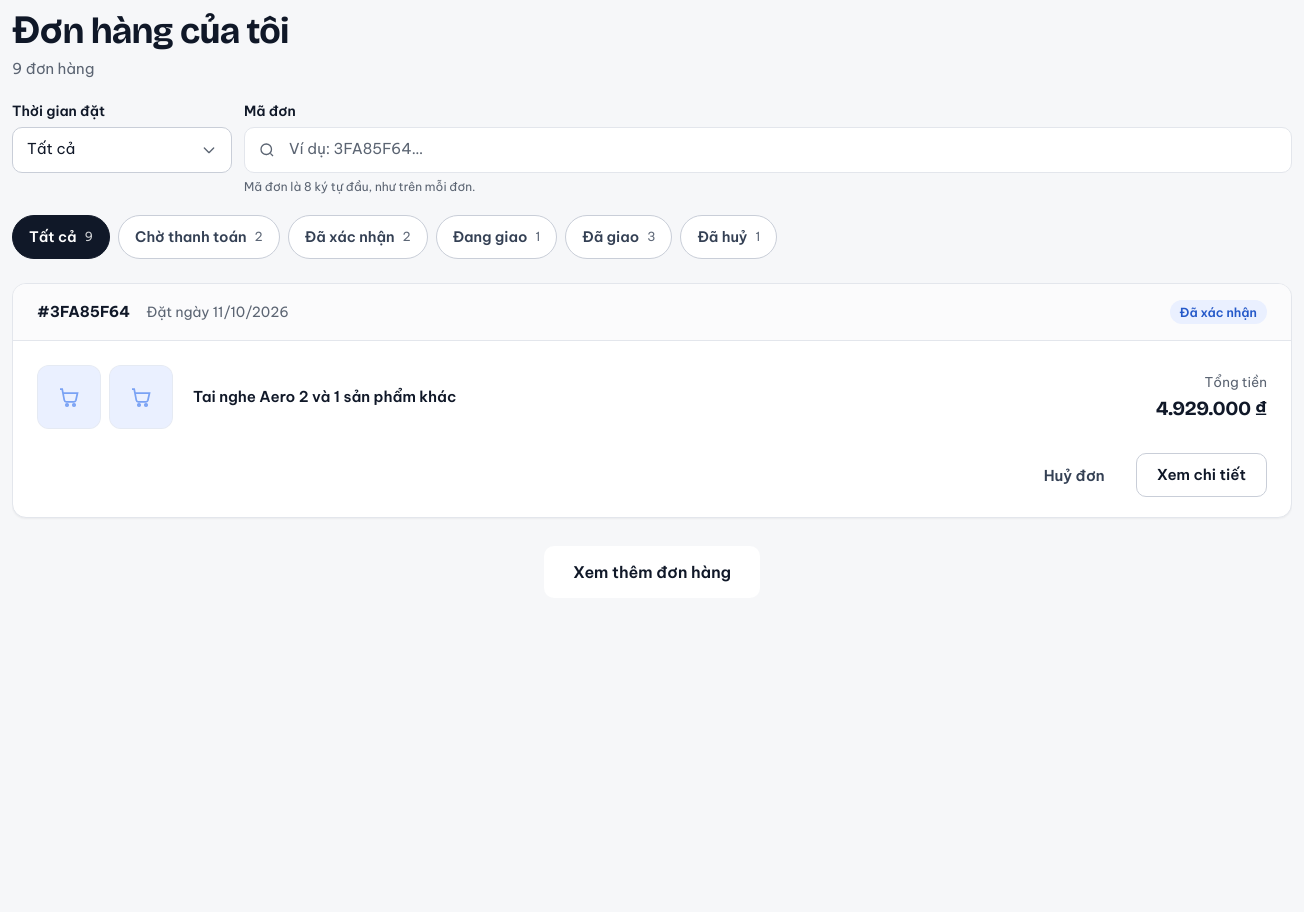
OrdersPage › fetches next page with cursor when clicking Xem thêm đơn hàng
Expected: the text "#3FA85F64" is shown, left=37, top=301, right=130, bottom=323
Click the button "Xem thêm đơn hàng" at (652, 572), box left=544, top=546, right=760, bottom=598
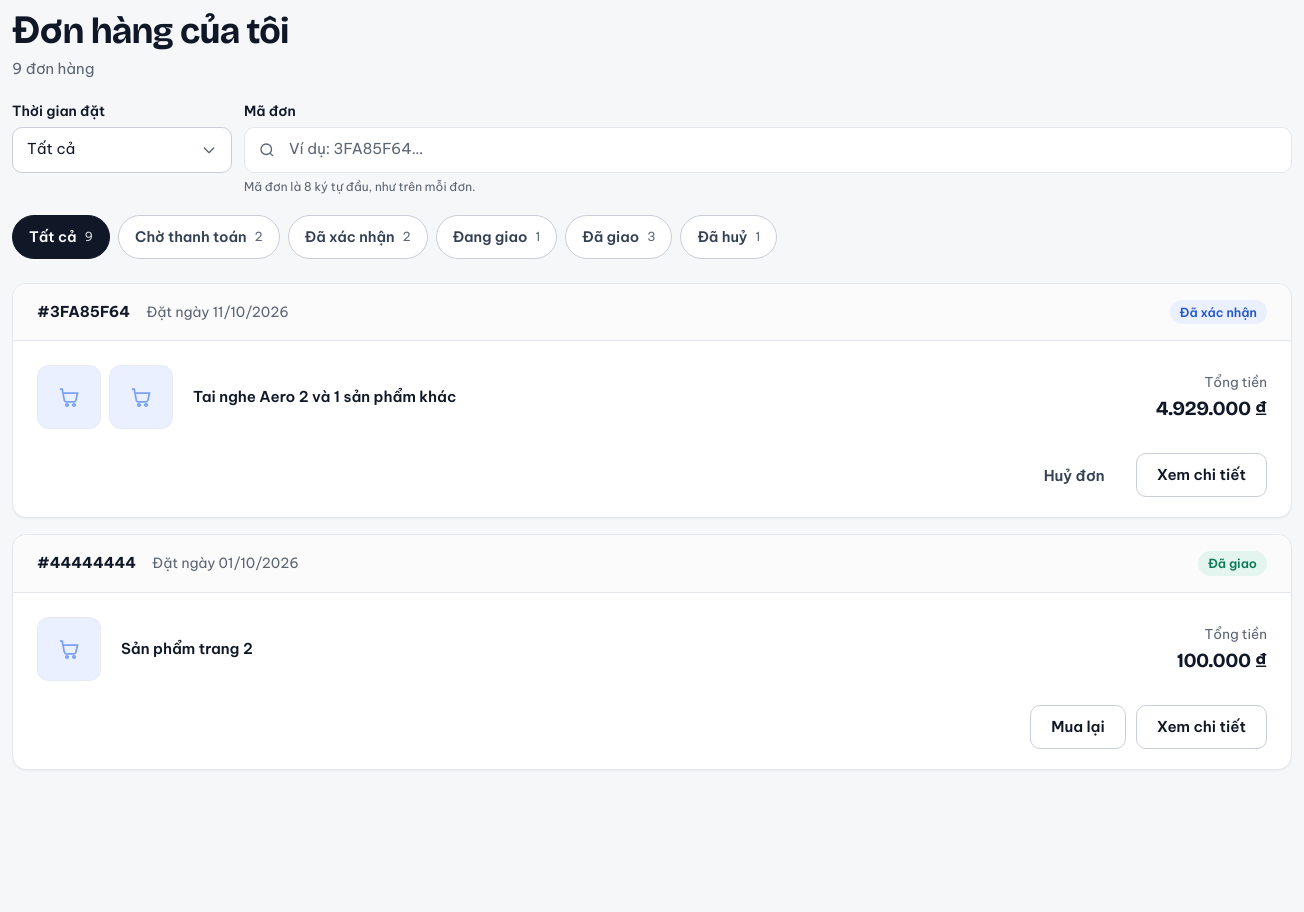
Result: the text "#44444444" is shown at left=37, top=552, right=136, bottom=575
Result: the button "Xem thêm đơn hàng" is gone
